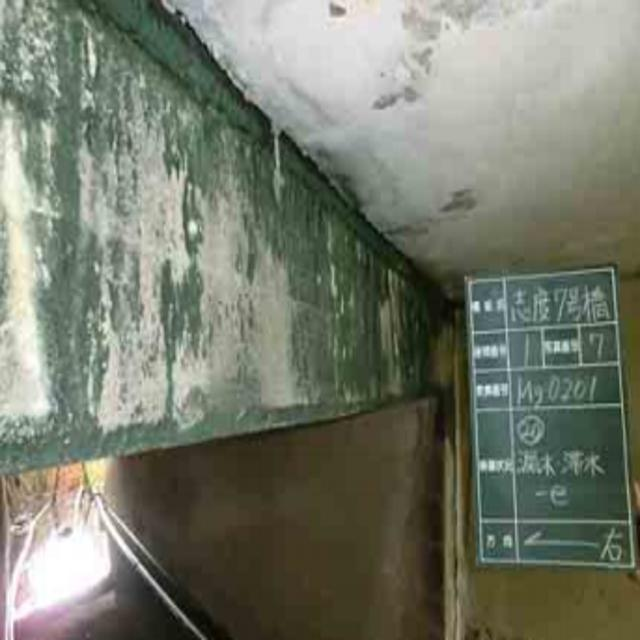leakage: (53, 4, 438, 443)
